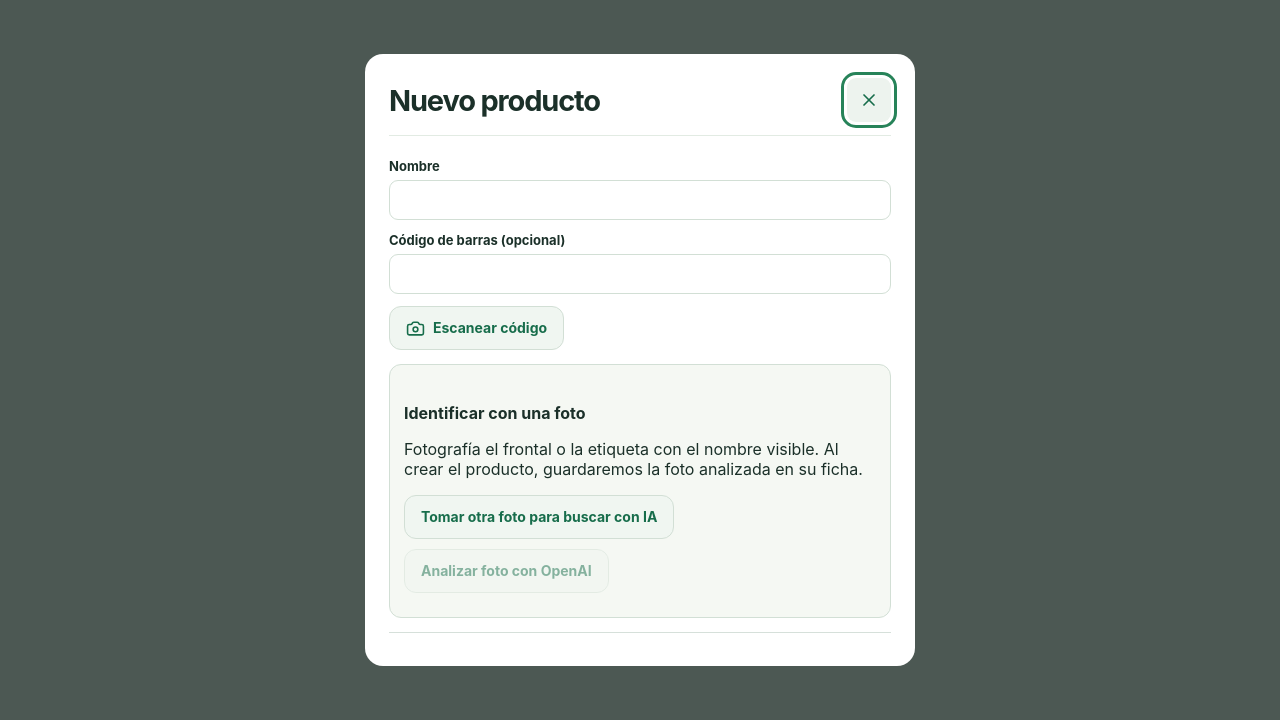
Test case: preserves entered fields after creation is rejected
Type "Leche entera" into the field labelled "Nombre" at (640, 200), box [389,180,891,220]
(page scrolled)
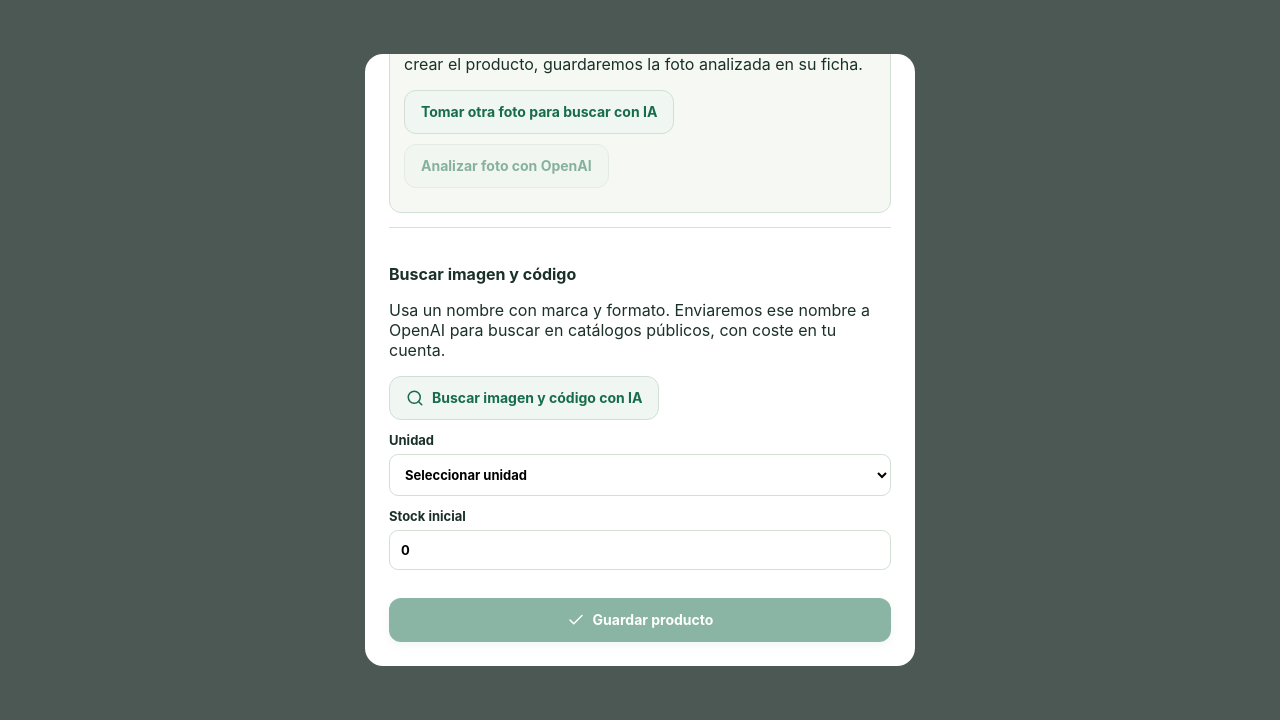
Select "Pack" in the dropdown labelled "Unidad" at (640, 475), box [389,454,891,496]
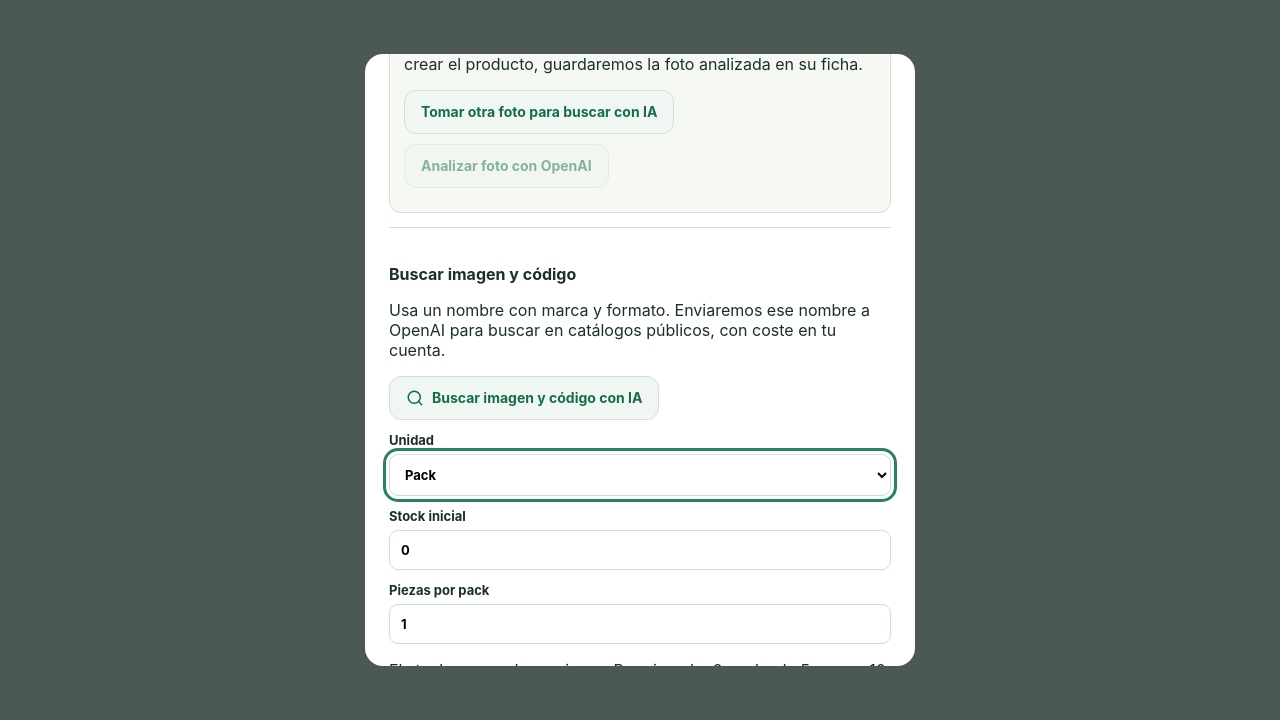
Replace the text in the number field labelled "Piezas por pack" with "5" at (640, 624), box [389,604,891,644]
(page scrolled)
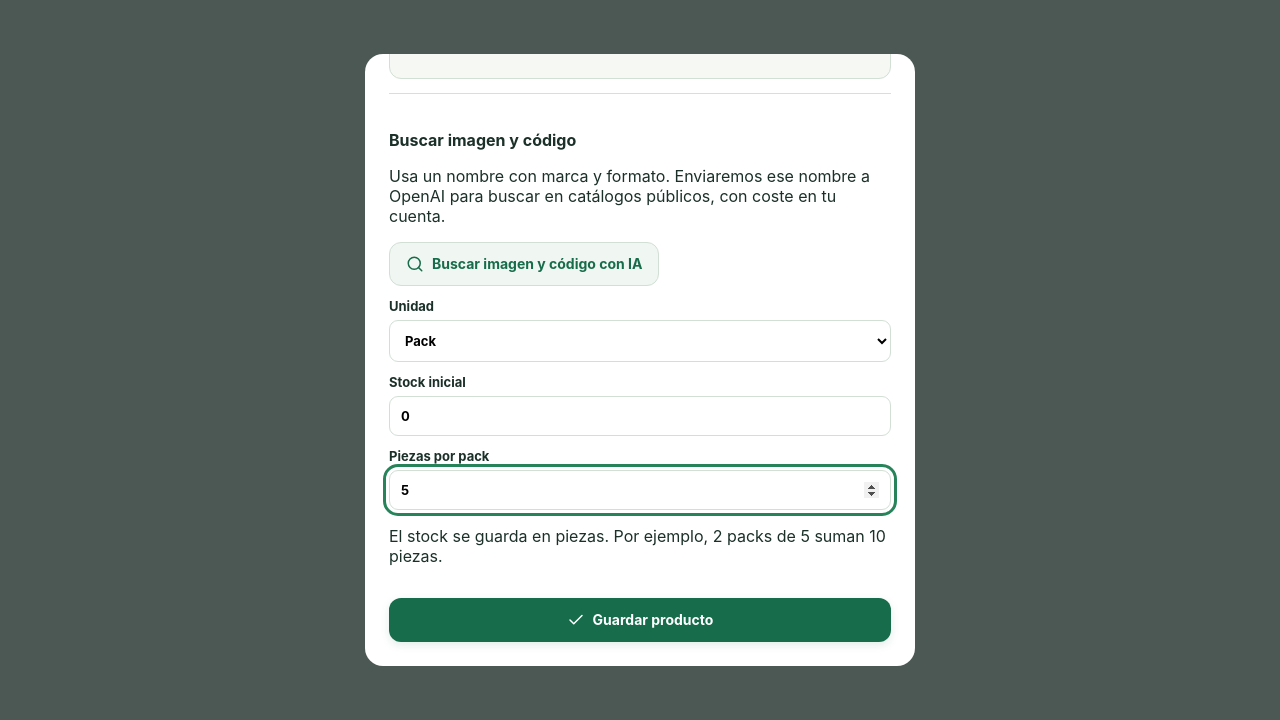
Click the button "Guardar producto" at (640, 620), box [389,598,891,642]
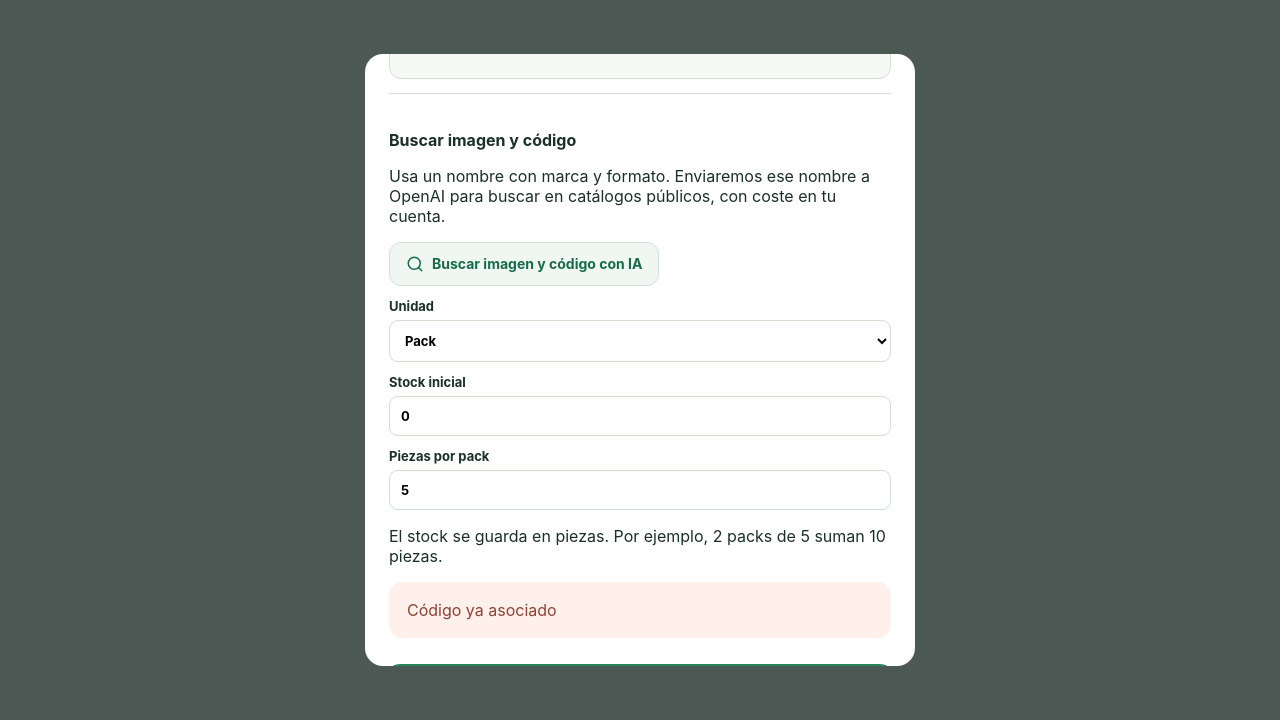
Now the message "Código ya asociado" is shown, box [389,582,891,638]
